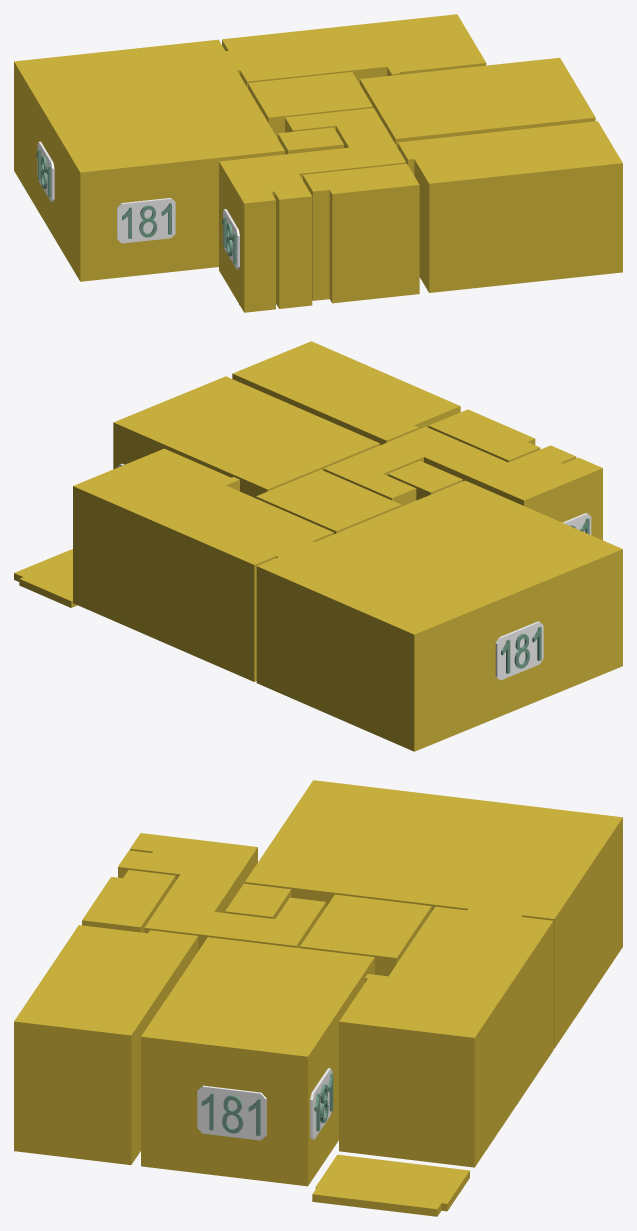
3 views of the same model, one above another, from view 1: azimuth 30°, elevation 25°; view 2: azimuth 150°, elevation 25°; view 3: azimuth 270°, elevation 25° (orthographic). The views are drawn at different scales.
Visible parts, largest first — view 1: g_7, g_1, g_3, g_2, g_0, g_6, g_4, g_20, g_5, g_12; view 2: g_7, g_6, g_0, g_3, g_1, g_4, g_2, g_8, g_16, g_5; view 3: g_7, g_6, g_0, g_1, g_3, g_8, g_4, g_2, g_24, g_5, g_28.
Boxes of the visible parts, <box> form: g_7: <box>14,39,284,281</box>; g_1: <box>397,121,622,292</box>; g_3: <box>219,108,406,312</box>; g_2: <box>303,164,419,303</box>; g_0: <box>360,57,595,147</box>; g_6: <box>222,14,486,88</box>; g_4: <box>248,72,372,138</box>; g_20: <box>117,198,175,243</box>; g_5: <box>278,127,343,154</box>; g_12: <box>223,209,239,269</box>; g_7: <box>256,480,622,751</box>; g_6: <box>73,448,333,681</box>; g_0: <box>113,376,379,498</box>; g_3: <box>323,426,602,540</box>; g_1: <box>232,341,460,445</box>; g_4: <box>256,469,401,534</box>; g_2: <box>428,409,540,462</box>; g_8: <box>14,549,77,607</box>; g_16: <box>495,621,543,680</box>; g_5: <box>388,461,462,500</box>; g_7: <box>245,780,622,1048</box>; g_6: <box>339,906,553,1167</box>; g_0: <box>141,937,374,1186</box>; g_1: <box>14,925,198,1164</box>; g_3: <box>118,833,325,950</box>; g_8: <box>312,1154,469,1216</box>; g_4: <box>300,894,431,976</box>; g_2: <box>82,870,175,932</box>; g_24: <box>197,1085,266,1140</box>; g_5: <box>225,883,291,918</box>; g_28: <box>310,1068,332,1139</box>.
Size of the model in its own units: 12.73 by 2.74 by 10.96.
